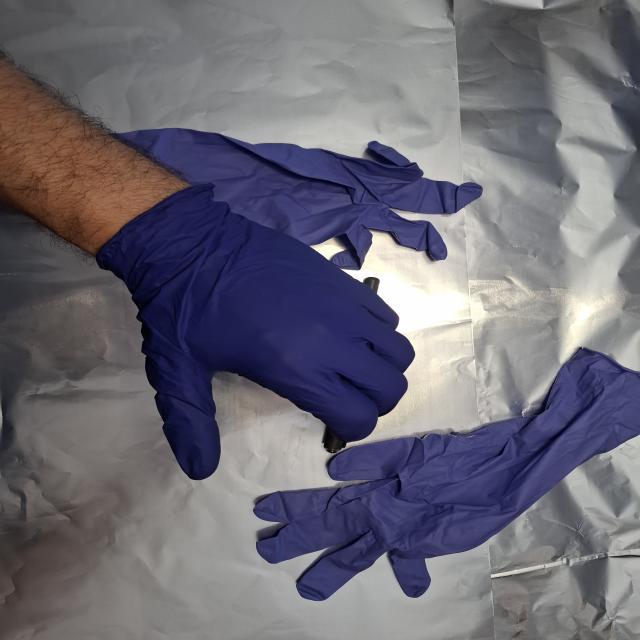glove_on: (96, 180, 422, 482)
